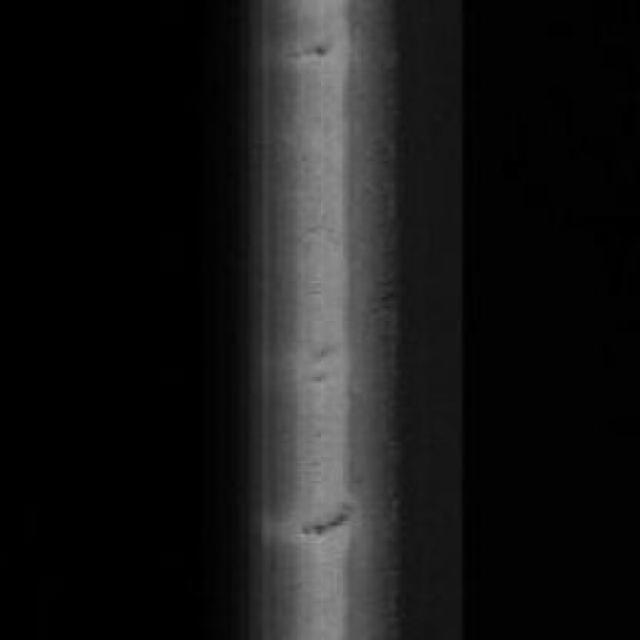non-defective: (228, 0, 471, 640)
